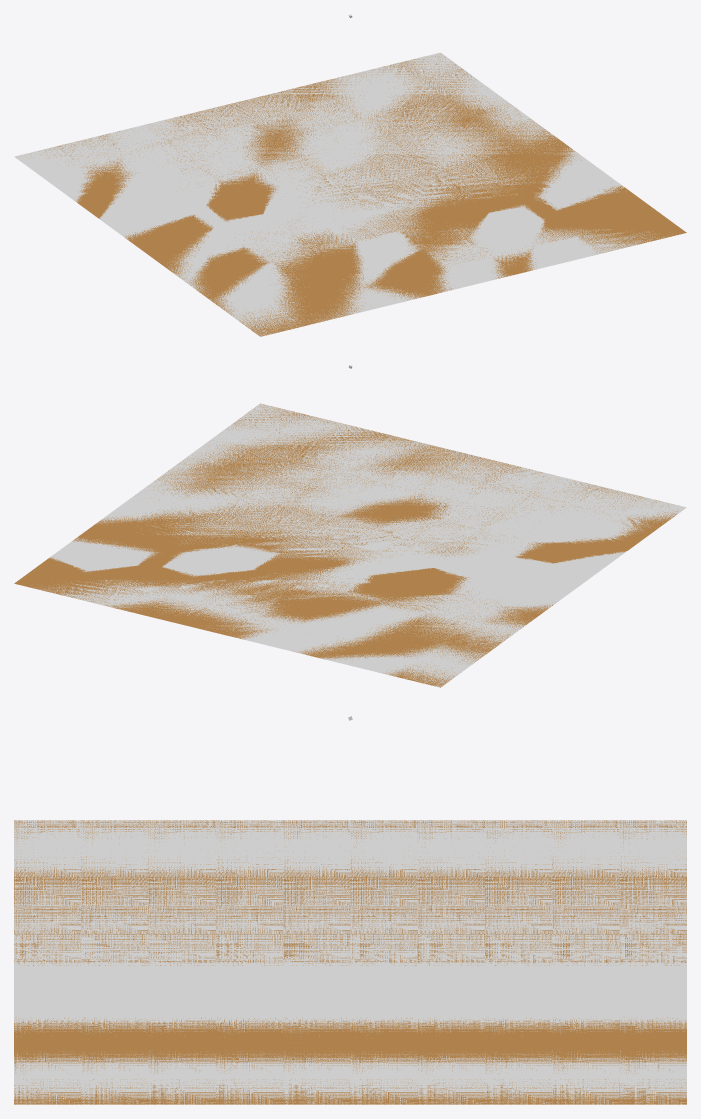
The model's file is TestPhysics.glb.
The picture shows the model from 3 angles, top to bottom: view 1: azimuth 30°, elevation 25°; view 2: azimuth 150°, elevation 25°; view 3: azimuth 270°, elevation 25°; orthographic projection. The views are drawn at different scales.
Parts seen in each view (by area): view 1: GroundPlane, GroundPlane.Mesh; view 2: GroundPlane, GroundPlane.Mesh; view 3: GroundPlane, GroundPlane.Mesh.
Boxes of the visible parts, box(x1,y1,x2,y2) form: GroundPlane: box(14, 52, 664, 336); GroundPlane.Mesh: box(20, 54, 686, 336); GroundPlane: box(34, 403, 686, 687); GroundPlane.Mesh: box(14, 404, 678, 687); GroundPlane: box(14, 820, 686, 1104); GroundPlane.Mesh: box(14, 820, 686, 1104).
Size of what is drawn, in the model's own units: 10 by 4.04 by 10.
